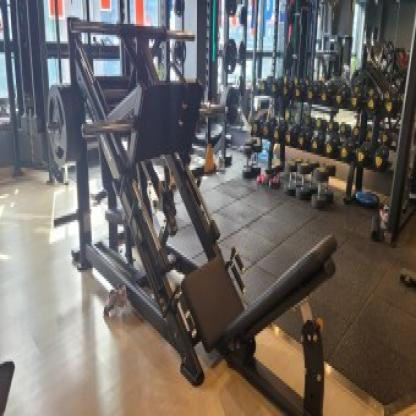leg press: (38, 4, 343, 416)
